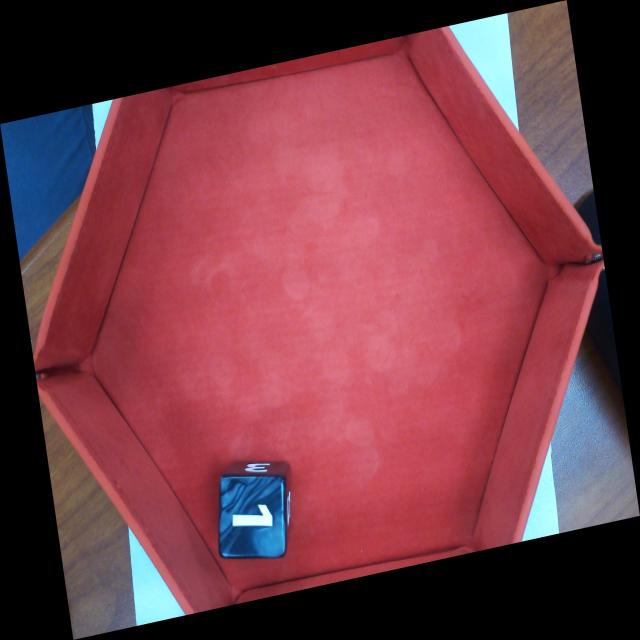dice: (221, 480, 284, 557)
